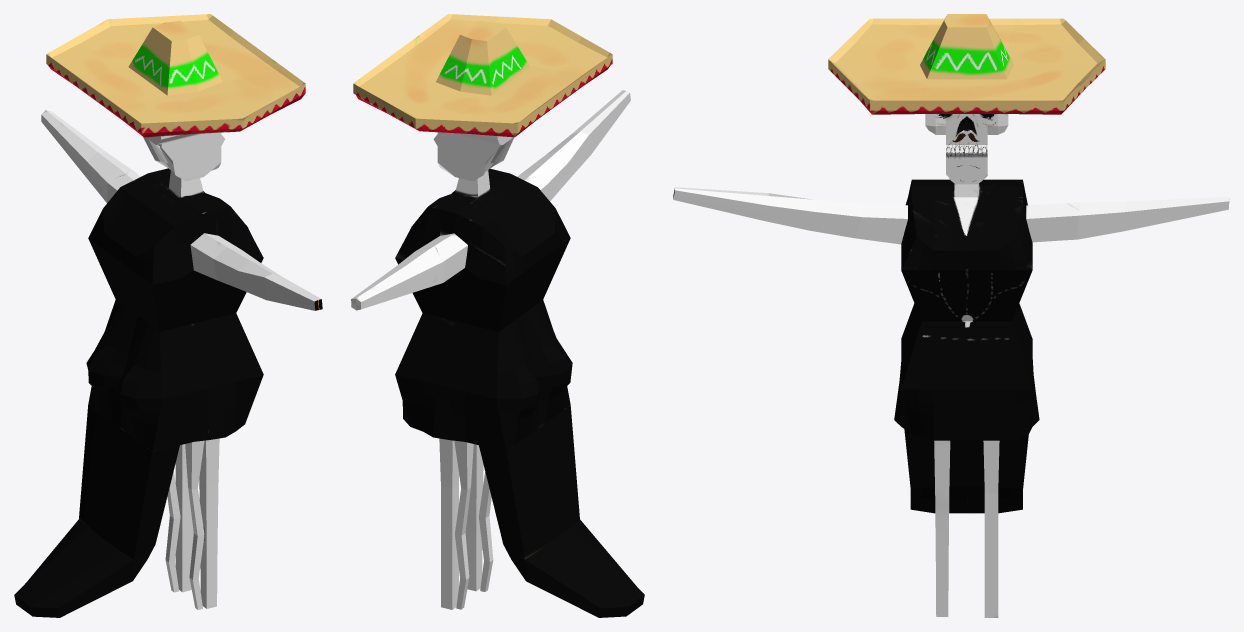
The model's file is MOOERTEfbx.fbx.
The picture shows the model from 3 angles, left to right: view 1: azimuth 30°, elevation 25°; view 2: azimuth 150°, elevation 25°; view 3: azimuth 270°, elevation 25°; orthographic projection. The views are drawn at different scales.
Visible parts, largest first — view 1: Cube; view 2: Cube; view 3: Cube.
Boxes of the visible parts, x1,y1,x2,y2 form: Cube: (14,14,322,617); Cube: (351,14,644,617); Cube: (673,14,1229,617).
Size of the model in its own units: 424 by 981 by 847.
1 material, 1 textured.
